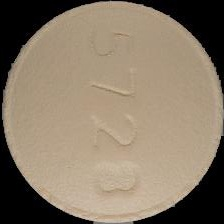55289-765: (0, 0, 224, 224)
